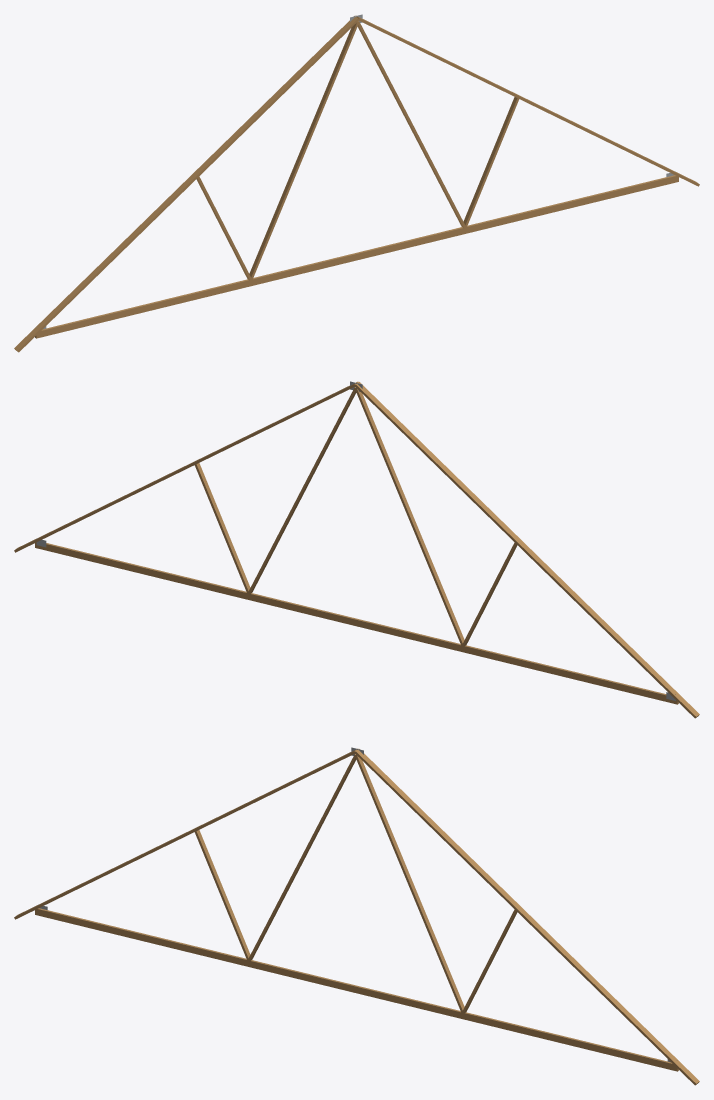
The model's file is structure.truss.fink_10.glb.
3 renders of one model, top to bottom at view 1: azimuth 30°, elevation 25°; view 2: azimuth 150°, elevation 25°; view 3: azimuth 330°, elevation 25°, orthographic.
Parts seen in each view (by area): view 1: truss__softwood; view 2: truss__softwood; view 3: truss__softwood.
Part boxes in pixels (left/top/right/bottom): truss__softwood: left=14, top=15, right=699, bottom=352; truss__softwood: left=14, top=381, right=699, bottom=718; truss__softwood: left=14, top=748, right=699, bottom=1085.
Bounding box in the file's own units: 10.62 × 3.75 × 0.097.
